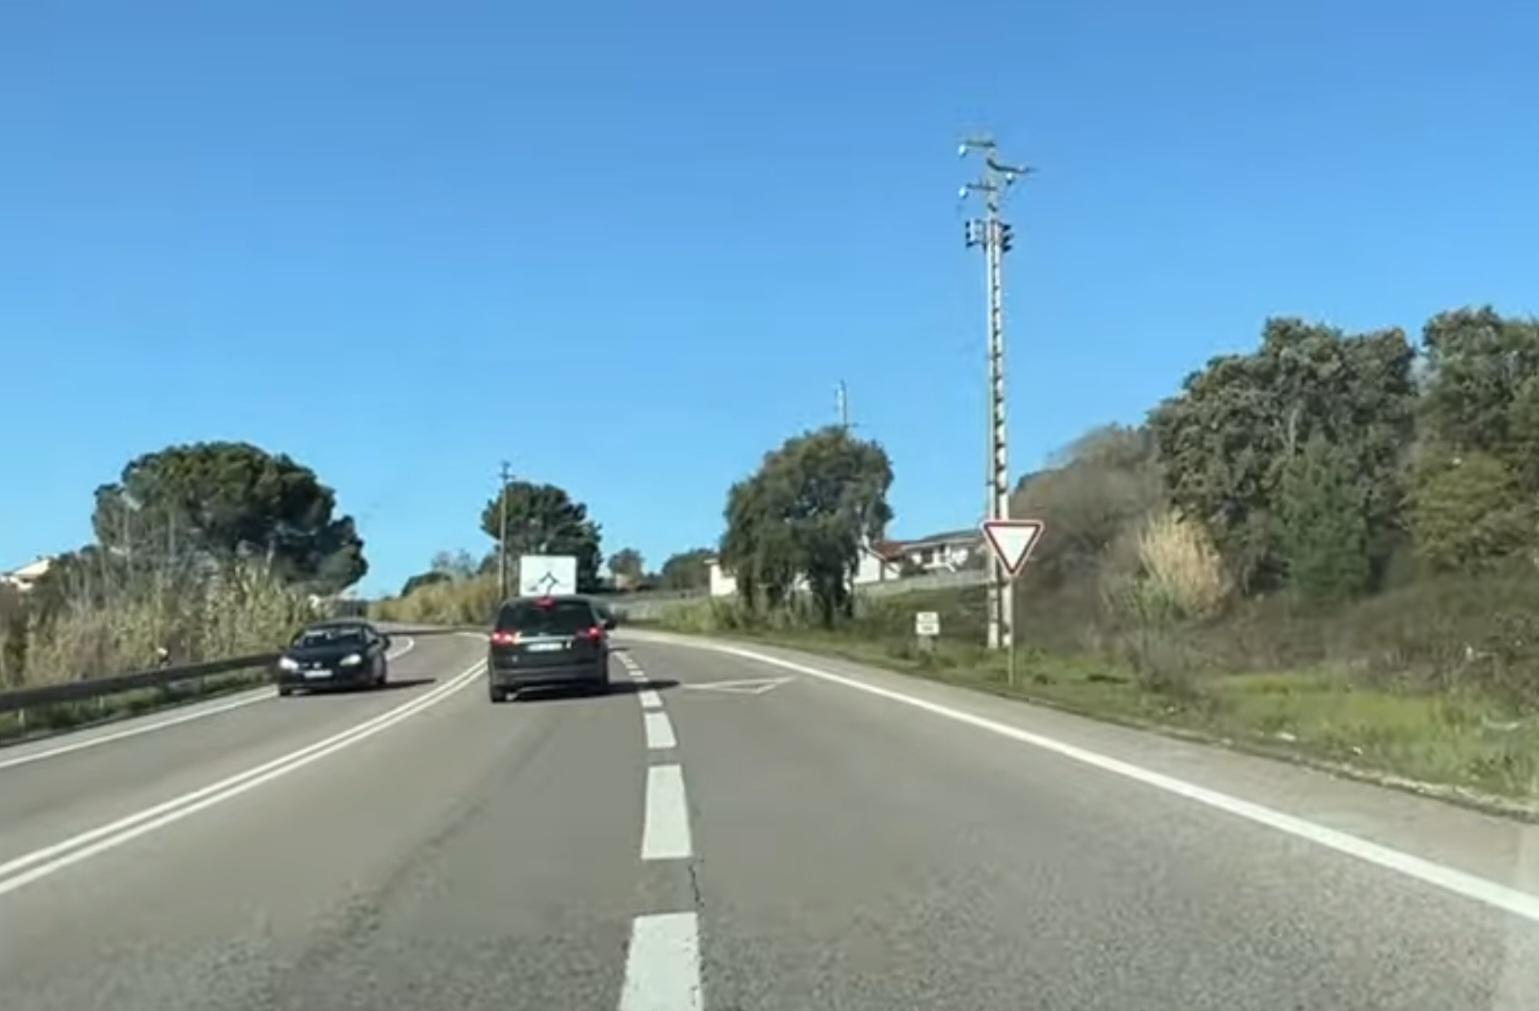cedencia de passagem: (993, 507, 1043, 587)
